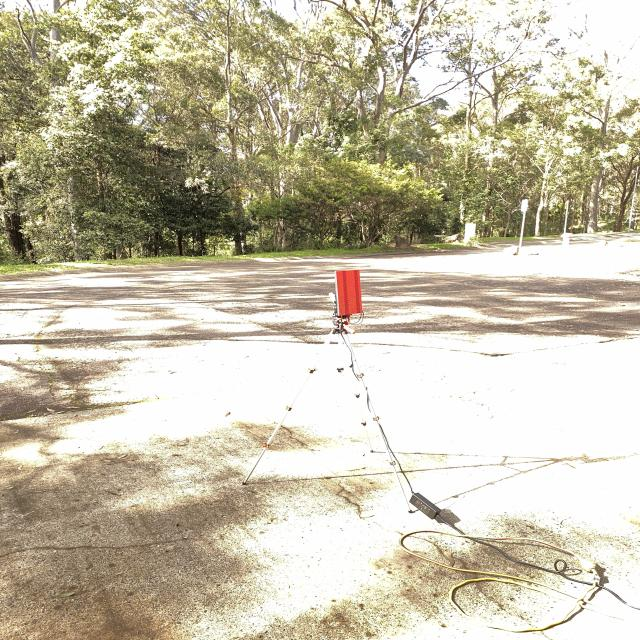matrix: (333, 268, 366, 316)
